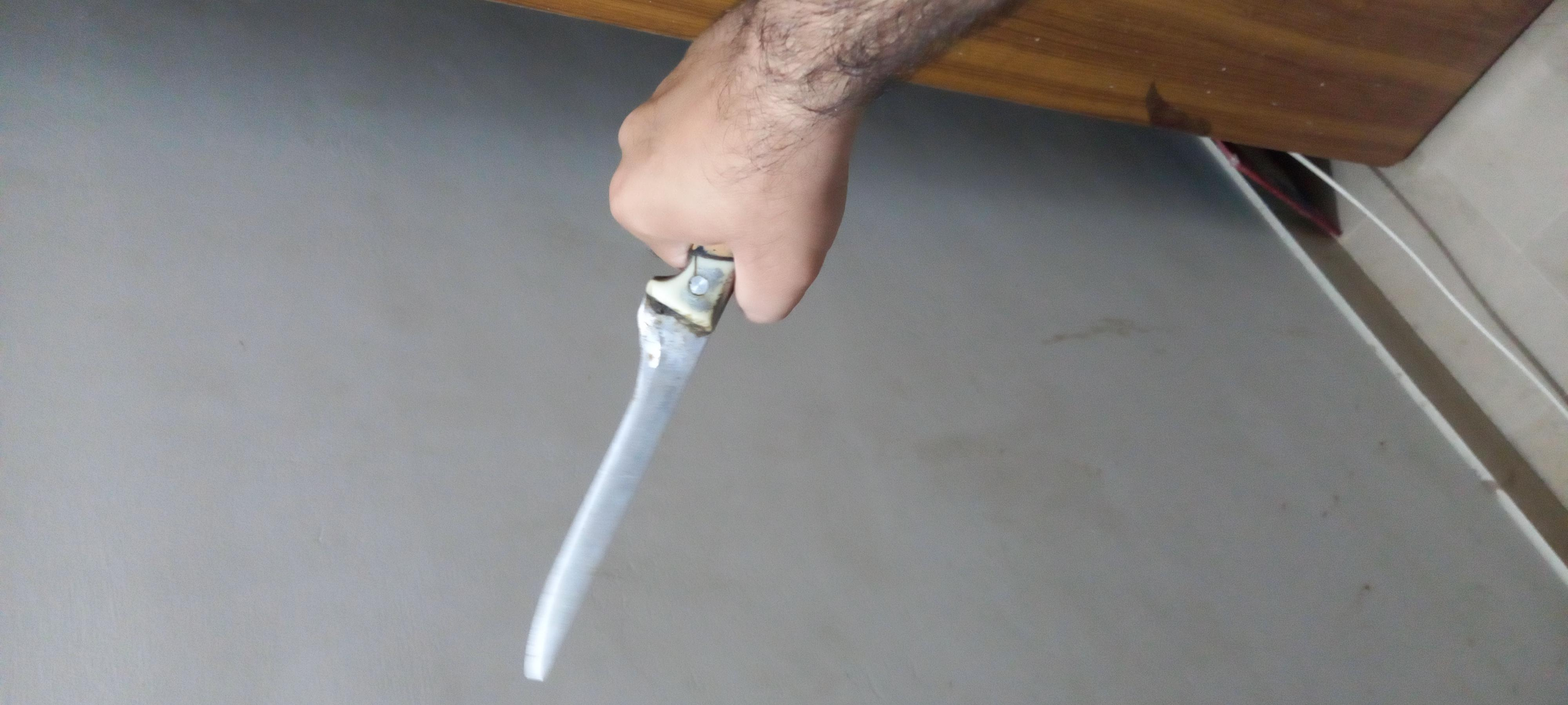knives: (27, 227, 1081, 346)
